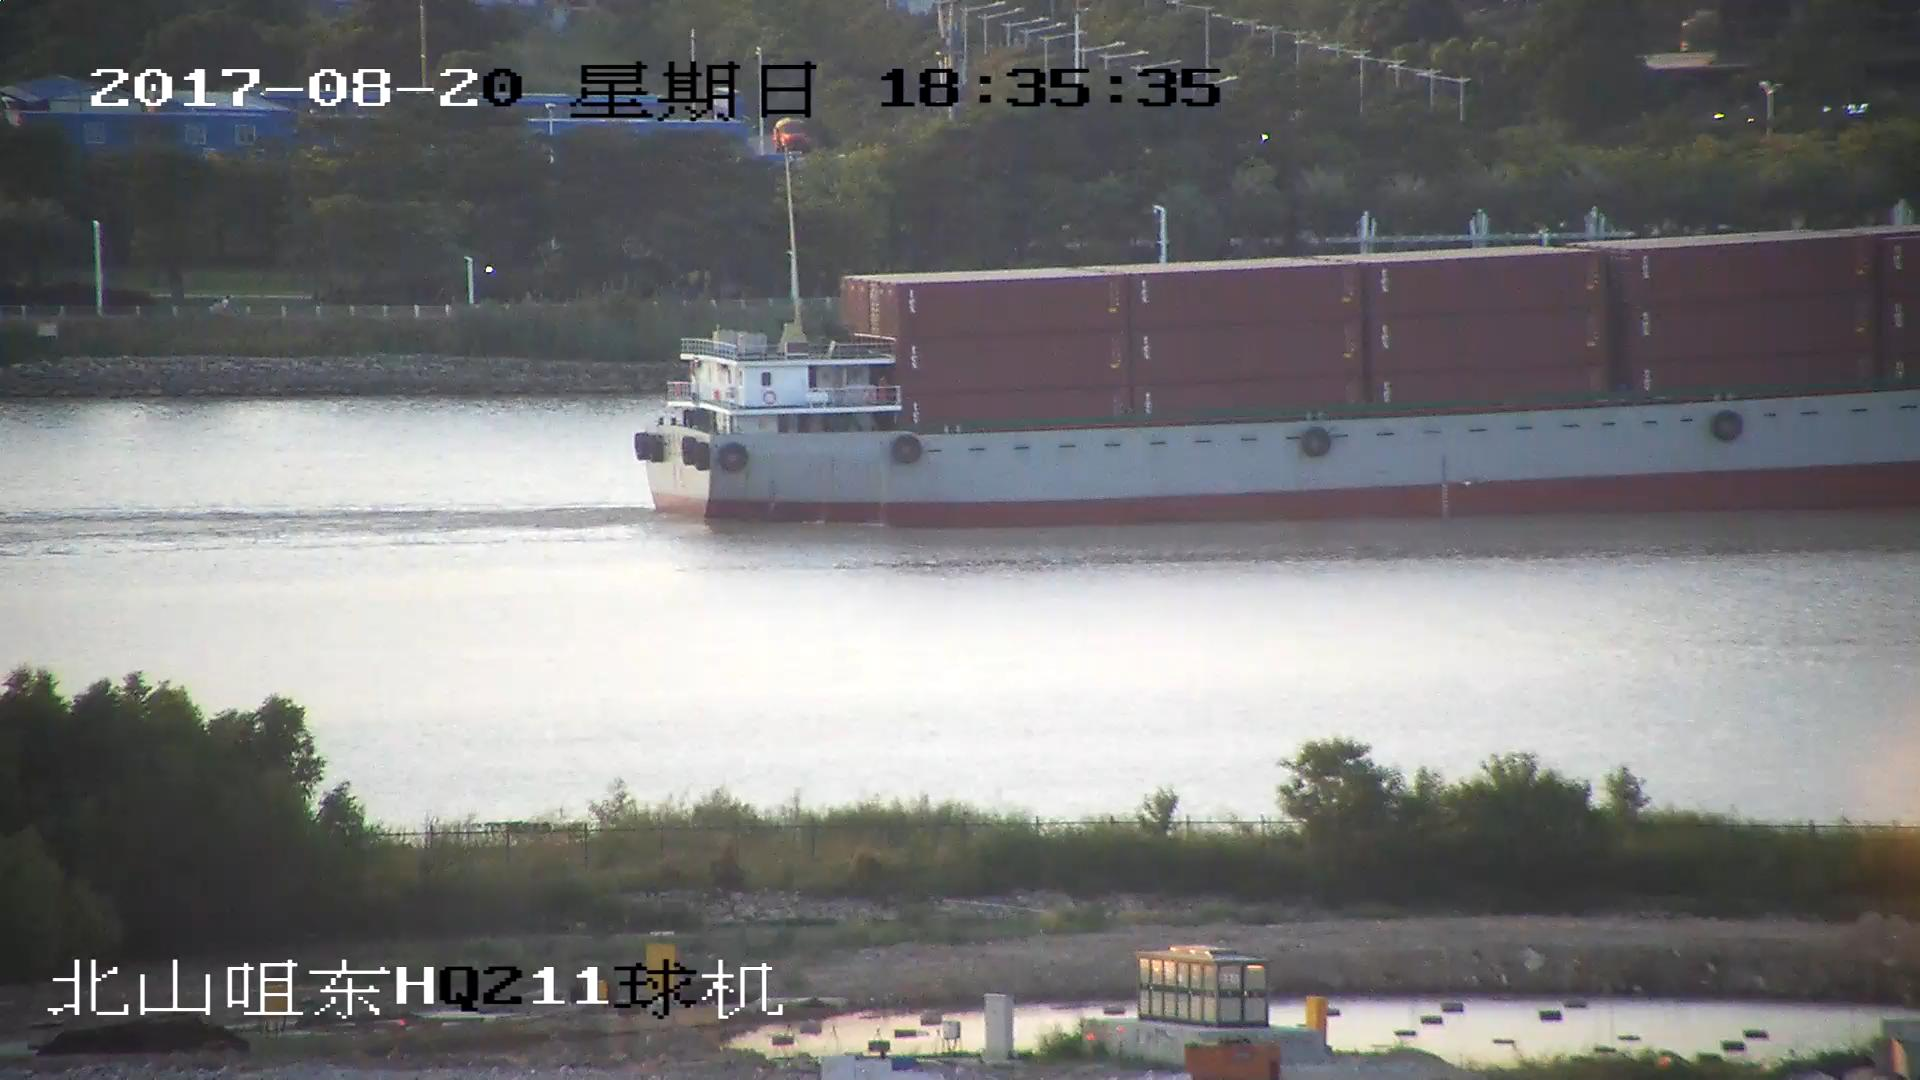container ship: (633, 175, 1920, 529)
